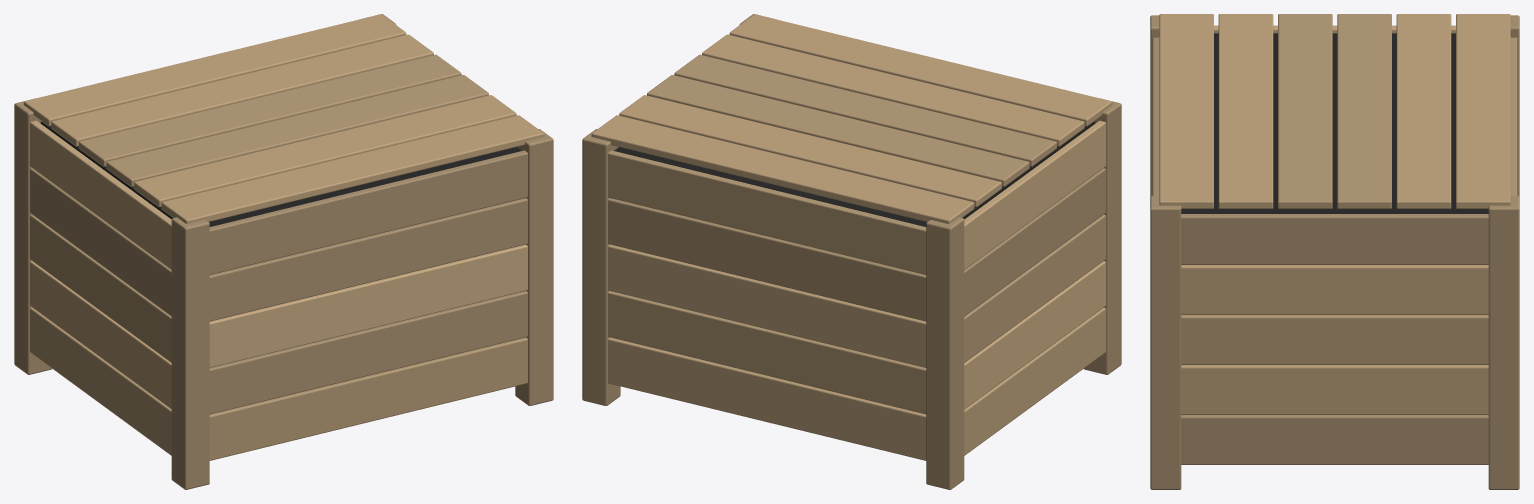
Rendered from crate.glb.
3 renders of one model, left to right at view 1: azimuth 30°, elevation 25°; view 2: azimuth 150°, elevation 25°; view 3: azimuth 270°, elevation 25°, orthographic. The views are drawn at different scales.
Parts seen in each view (by area): view 1: Crate; view 2: Crate; view 3: Crate.
Boxes of the visible parts, x1=… form: Crate: x1=14, y1=14, x2=553, y2=489; Crate: x1=582, y1=14, x2=1121, y2=489; Crate: x1=1150, y1=14, x2=1519, y2=489.
Bounding box in the file's own units: 1.03 × 0.71 × 0.83.
